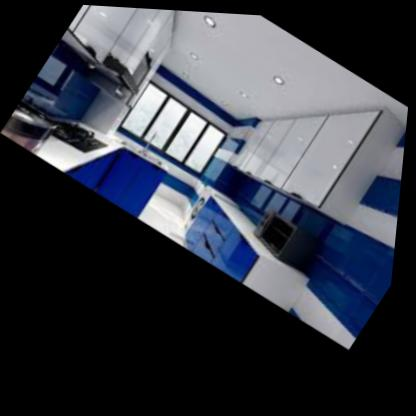Cabinet: (68, 128, 172, 217), (180, 191, 281, 282)
